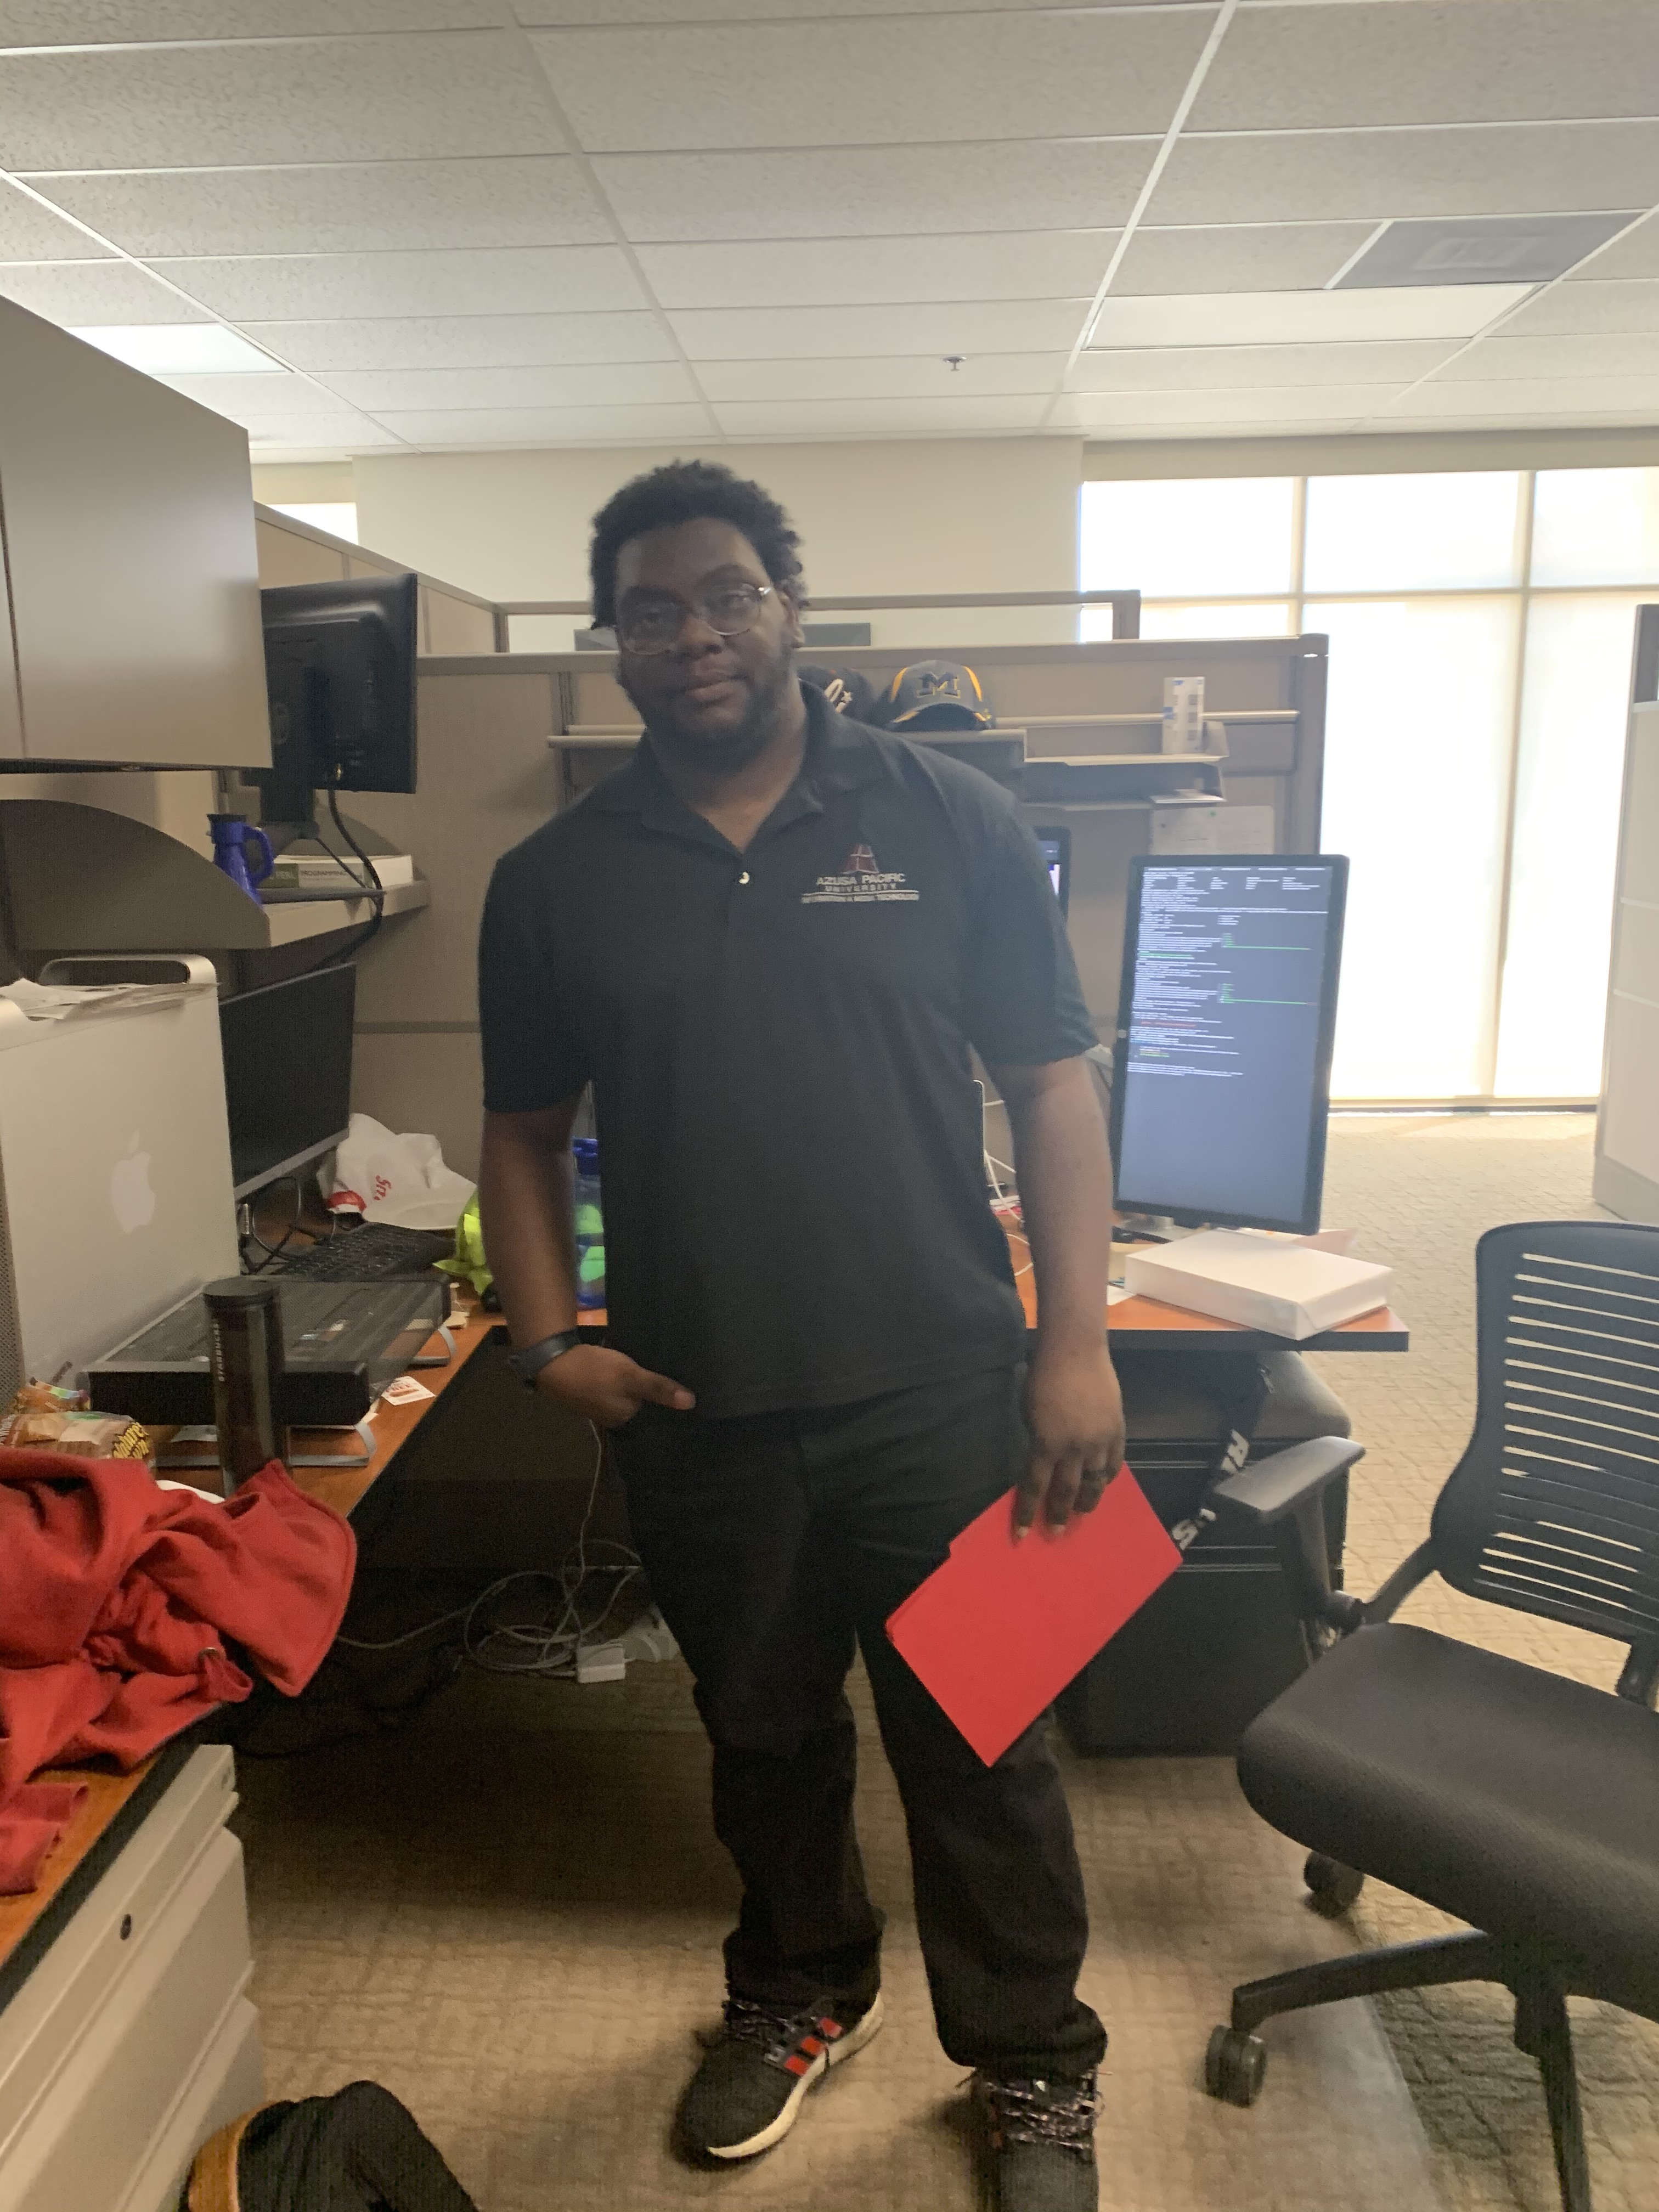red folder: (868, 1440, 1188, 1789)
